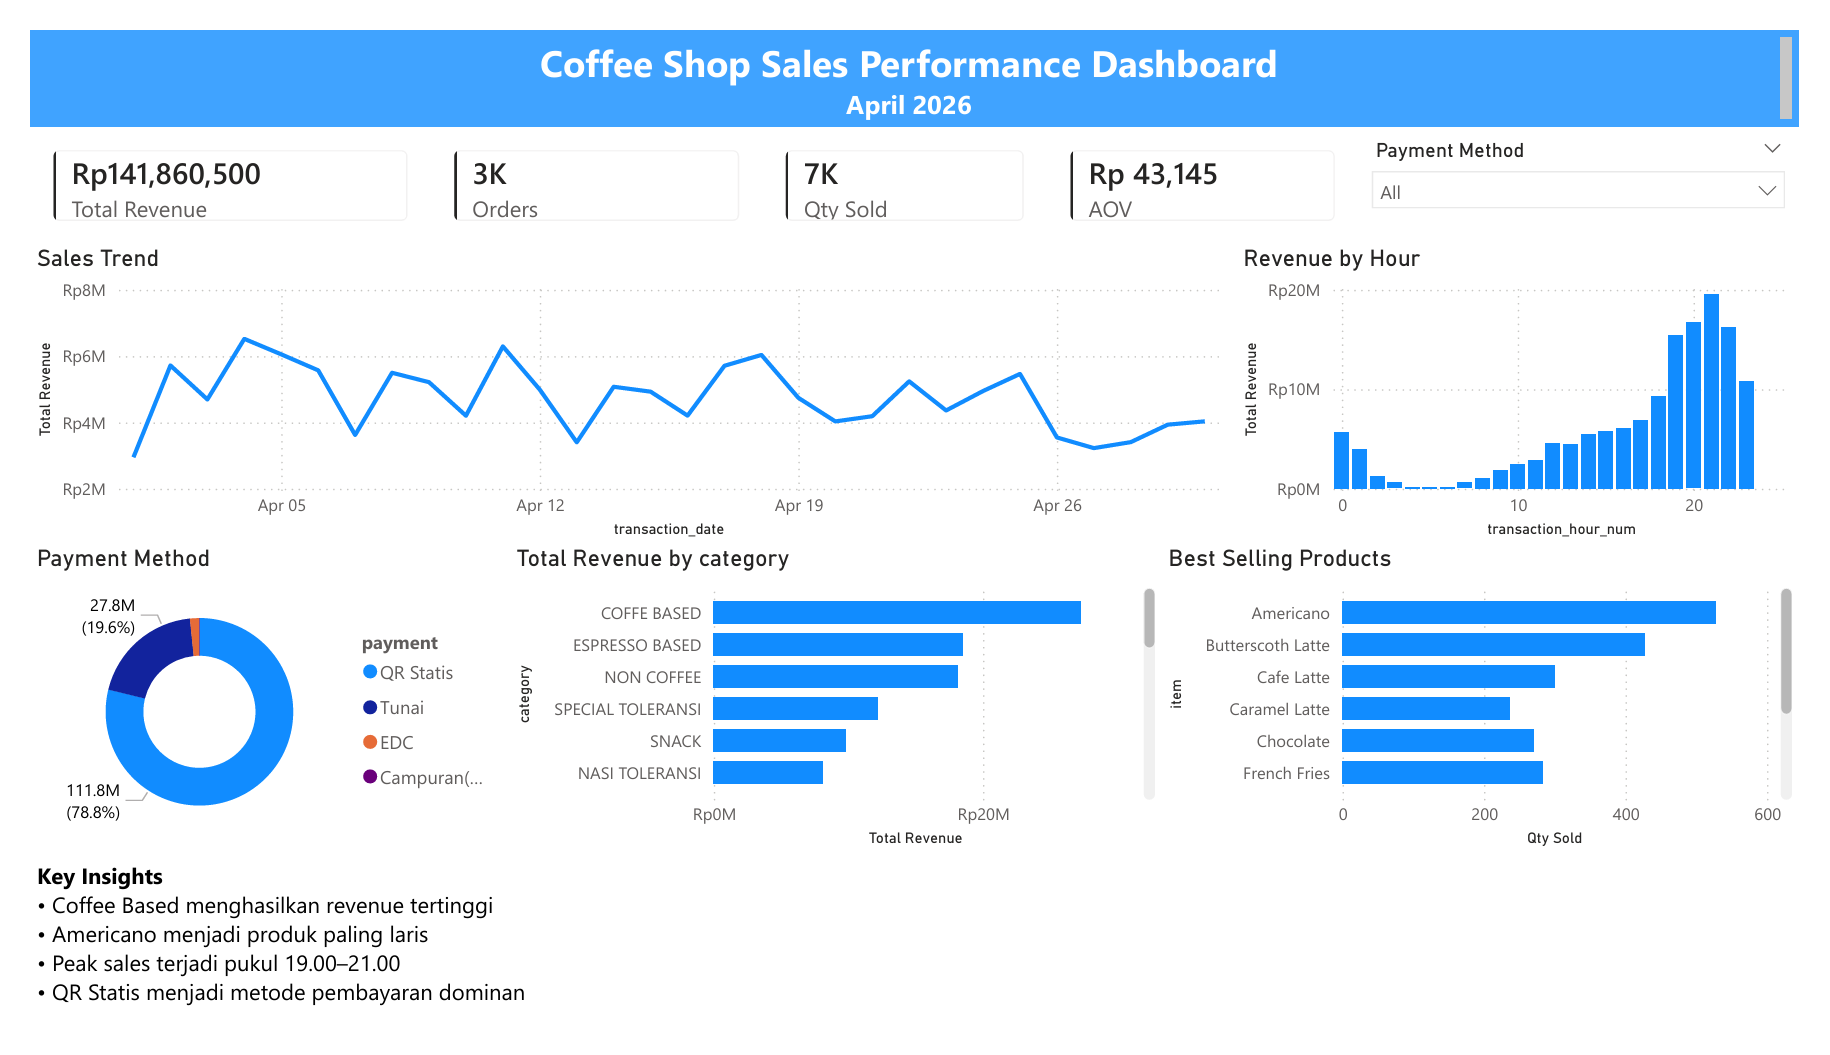

The page's visual inventory and layout, read from the dashboard file:
{"tool":"powerbi","page":{"name":"Page 1","canvas":[1280,720],"ordinal":0},"visuals":[{"type":"cardVisual","fields":{"Data":["Clean Data.Total Revenue"]},"box":[0,70,289.5,85.1],"z":0},{"type":"cardVisual","fields":{"Data":["Clean Data.Total Orders"]},"box":[289.5,70,240.1,85.1],"z":1000},{"type":"cardVisual","fields":{"Data":["Clean Data.Total Qty Sold"]},"box":[529.7,70,205.8,85.1],"z":2000},{"type":"cardVisual","fields":{"Data":["Clean Data.AOV"]},"box":[735.5,70,225,85.1],"z":3000},{"type":"lineChart","title":"Sales Trend","fields":{"Y":["Clean Data.Total Revenue"],"Category":["Clean Data.transaction_date.Variation.Date Hierarchy.Year"]},"box":[0,155.1,872.7,216.8],"z":4000},{"type":"clusteredBarChart","fields":{"Category":["Clean Data.category"],"Y":["Clean Data.Total Revenue"]},"box":[347.2,371.9,472,223.7],"z":5000},{"type":"clusteredBarChart","title":"Best Selling Products","fields":{"Category":["Clean Data.item"],"Y":["Clean Data.Qty Sold"]},"box":[819.2,371.9,461.1,223.7],"z":6000},{"type":"columnChart","title":"Revenue by Hour","fields":{"Category":["Clean Data.transaction_hour_num"],"Y":["Clean Data.Total Revenue"]},"box":[872.7,155.1,407.5,216.8],"z":7000},{"type":"textbox","box":[0,0,1280.3,70],"z":8000},{"type":"slicer","title":"Payment Method","fields":{"Values":["Clean Data.payment_method"]},"box":[960.6,74.1,319.7,70],"z":9000},{"type":"shape","box":[0,595.5,1280.3,124.9],"z":10000},{"type":"textbox","box":[0,595.5,369.1,124.9],"z":11000},{"type":"donutChart","title":"Payment Method","fields":{"Category":["Clean Data.payment_method"],"Y":["Sum(Clean Data.revenue)"]},"box":[0,372,347,224],"z":12000}]}

Visuals, with their boxes in screenshot pixels (x1, y1, x2, y2), scaled from the page's 1280x720 canvas onto the 1830x1055 screenshot:
cardVisual - Clean Data.Total Revenue: 0,103,414,227
cardVisual - Clean Data.Total Orders: 414,103,757,227
cardVisual - Clean Data.Total Qty Sold: 757,103,1052,227
cardVisual - Clean Data.AOV: 1052,103,1373,227
"Sales Trend" lineChart: 0,227,1248,545
clusteredBarChart - Clean Data.category x Clean Data.Total Revenue: 496,545,1171,873
"Best Selling Products" clusteredBarChart: 1171,545,1829,873
"Revenue by Hour" columnChart: 1248,227,1829,545
textbox: 0,0,1829,103
"Payment Method" slicer: 1373,109,1829,211
shape: 0,873,1829,1054
textbox: 0,873,528,1054
"Payment Method" donutChart: 0,545,496,873
